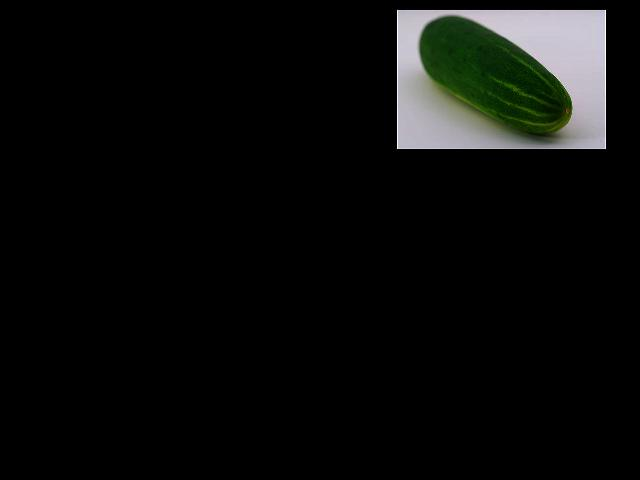cucumber: (419, 16, 571, 134)
